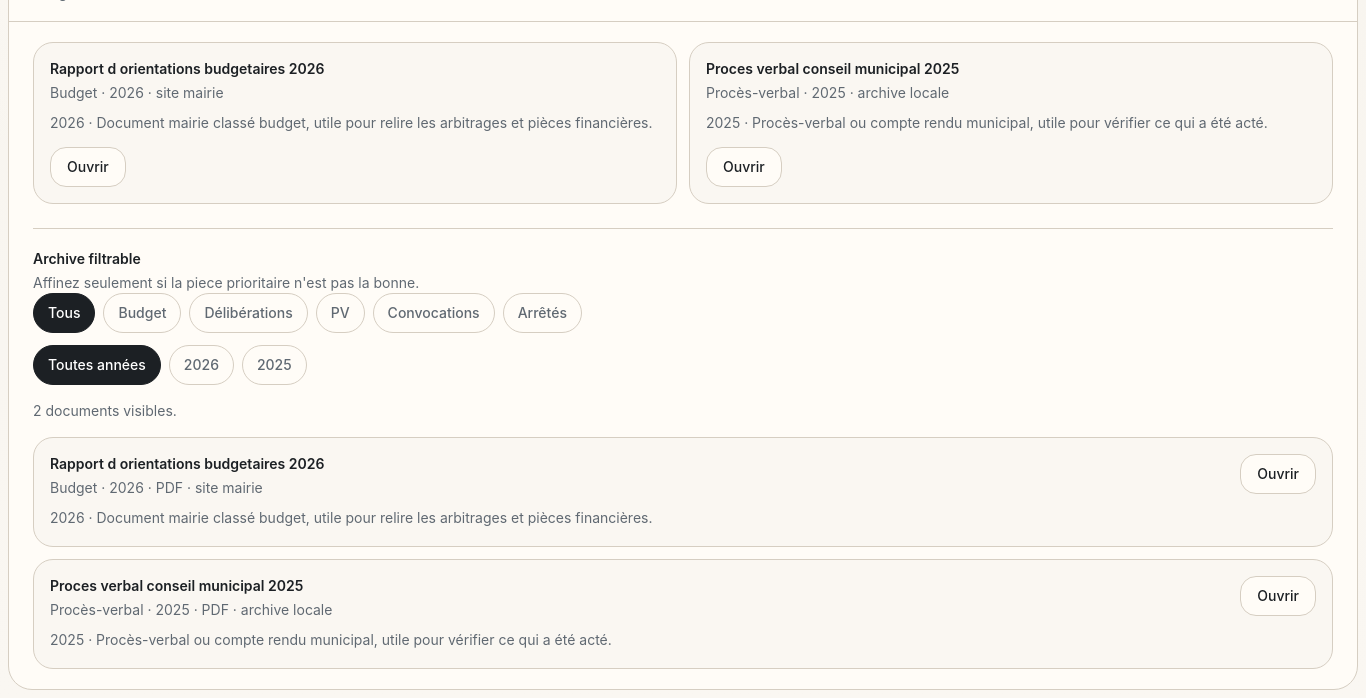
DocumentsPage › affiche les documents mairie filtrables
(page scrolled)
Expected: the heading "Archive filtrable" is shown, left=33, top=250, right=141, bottom=266
Expected: the button "Budget" is shown, left=104, top=292, right=181, bottom=332
Click the button "2025" at coordinates (274, 364), box left=242, top=344, right=307, bottom=384
(page scrolled)
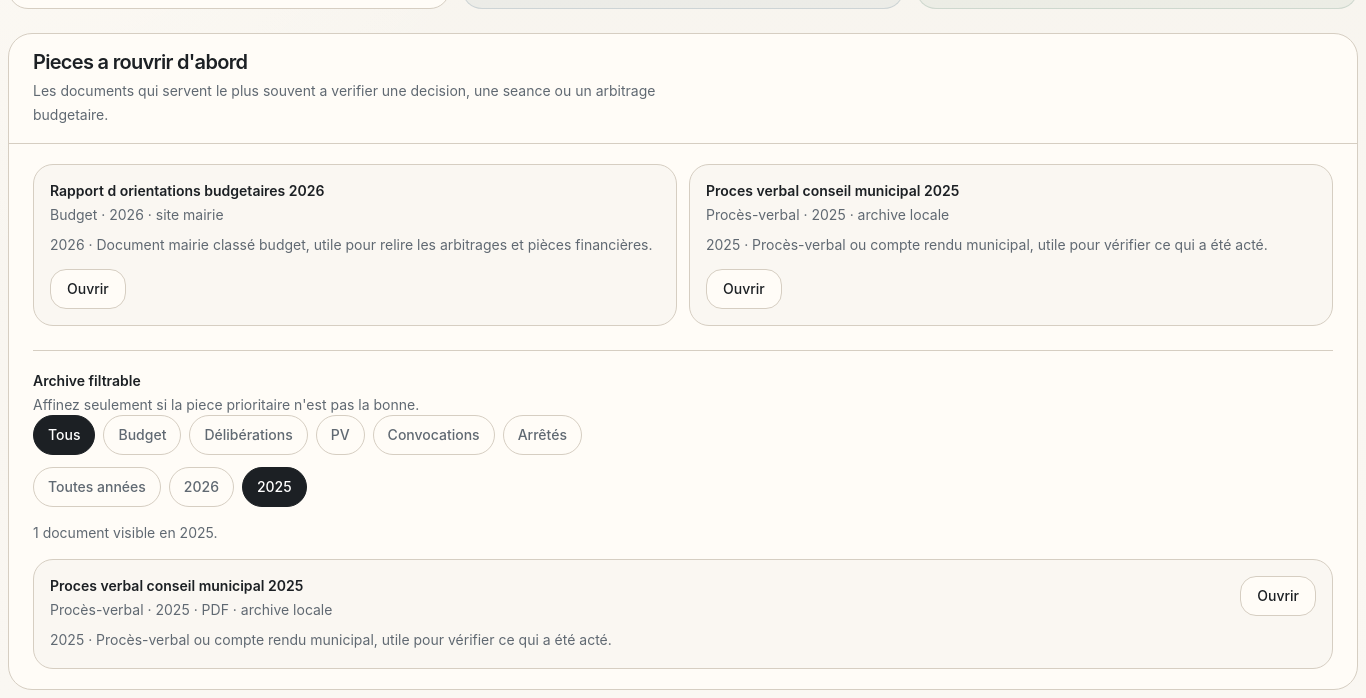
Expected: the text "Proces verbal conseil municipal 2025" in the row of "Rapport d orientations budgetaires 2026" is shown, left=706, top=182, right=959, bottom=198
Expected: the text "1 document visible en 2025." is shown, left=33, top=524, right=218, bottom=540
